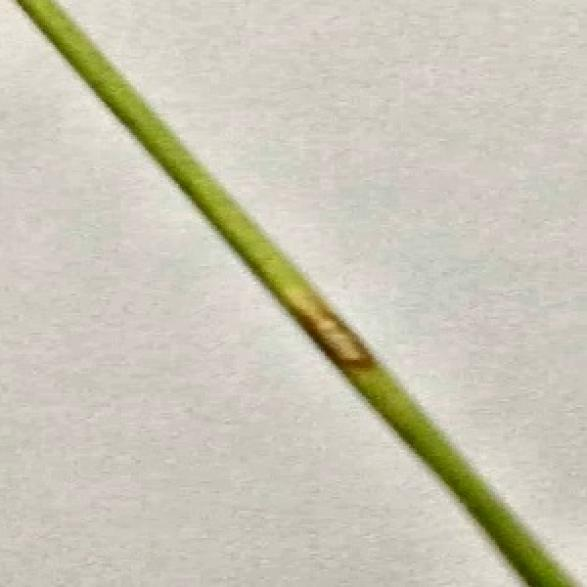Leaf_smut: (285, 288, 385, 374)
